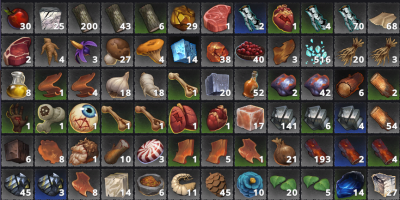ash log: (67, 2, 100, 34), (101, 2, 133, 35), (134, 2, 166, 35)
aurelium ore: (167, 2, 200, 34)
birch log: (300, 1, 333, 34), (334, 1, 367, 34), (234, 1, 266, 34)
copper ore: (201, 35, 233, 67)
durable hide: (267, 35, 300, 67)
ethereal dust: (301, 35, 333, 67)
flexible hide: (68, 68, 100, 100), (34, 69, 66, 98)
granite stone: (201, 68, 234, 100)
iron ore: (300, 67, 333, 101), (268, 68, 300, 100)
limestone stone: (367, 168, 400, 200)
marble stone: (34, 2, 67, 34)
oak log: (368, 69, 400, 100), (369, 101, 399, 134)
silver ore: (333, 102, 367, 133), (268, 101, 299, 134), (300, 102, 331, 133)
slate stone: (1, 136, 33, 167)
soft hide: (34, 135, 67, 166)
spruce log: (100, 136, 133, 167)
strong hide: (168, 136, 200, 167), (201, 136, 233, 166)
tin ore: (34, 168, 67, 200), (1, 168, 34, 199)
tough hide: (234, 135, 267, 167), (69, 168, 100, 199)
travertine stone: (101, 168, 134, 200)
yew log: (300, 134, 334, 167), (367, 135, 399, 167), (335, 135, 366, 167)
